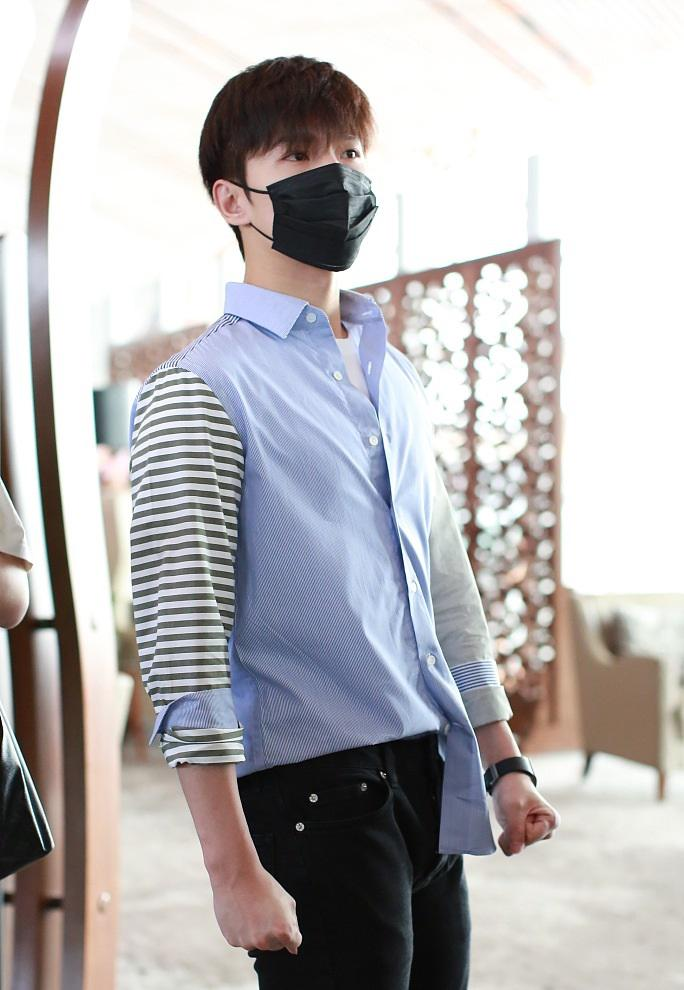OK: (267, 132, 376, 270)
